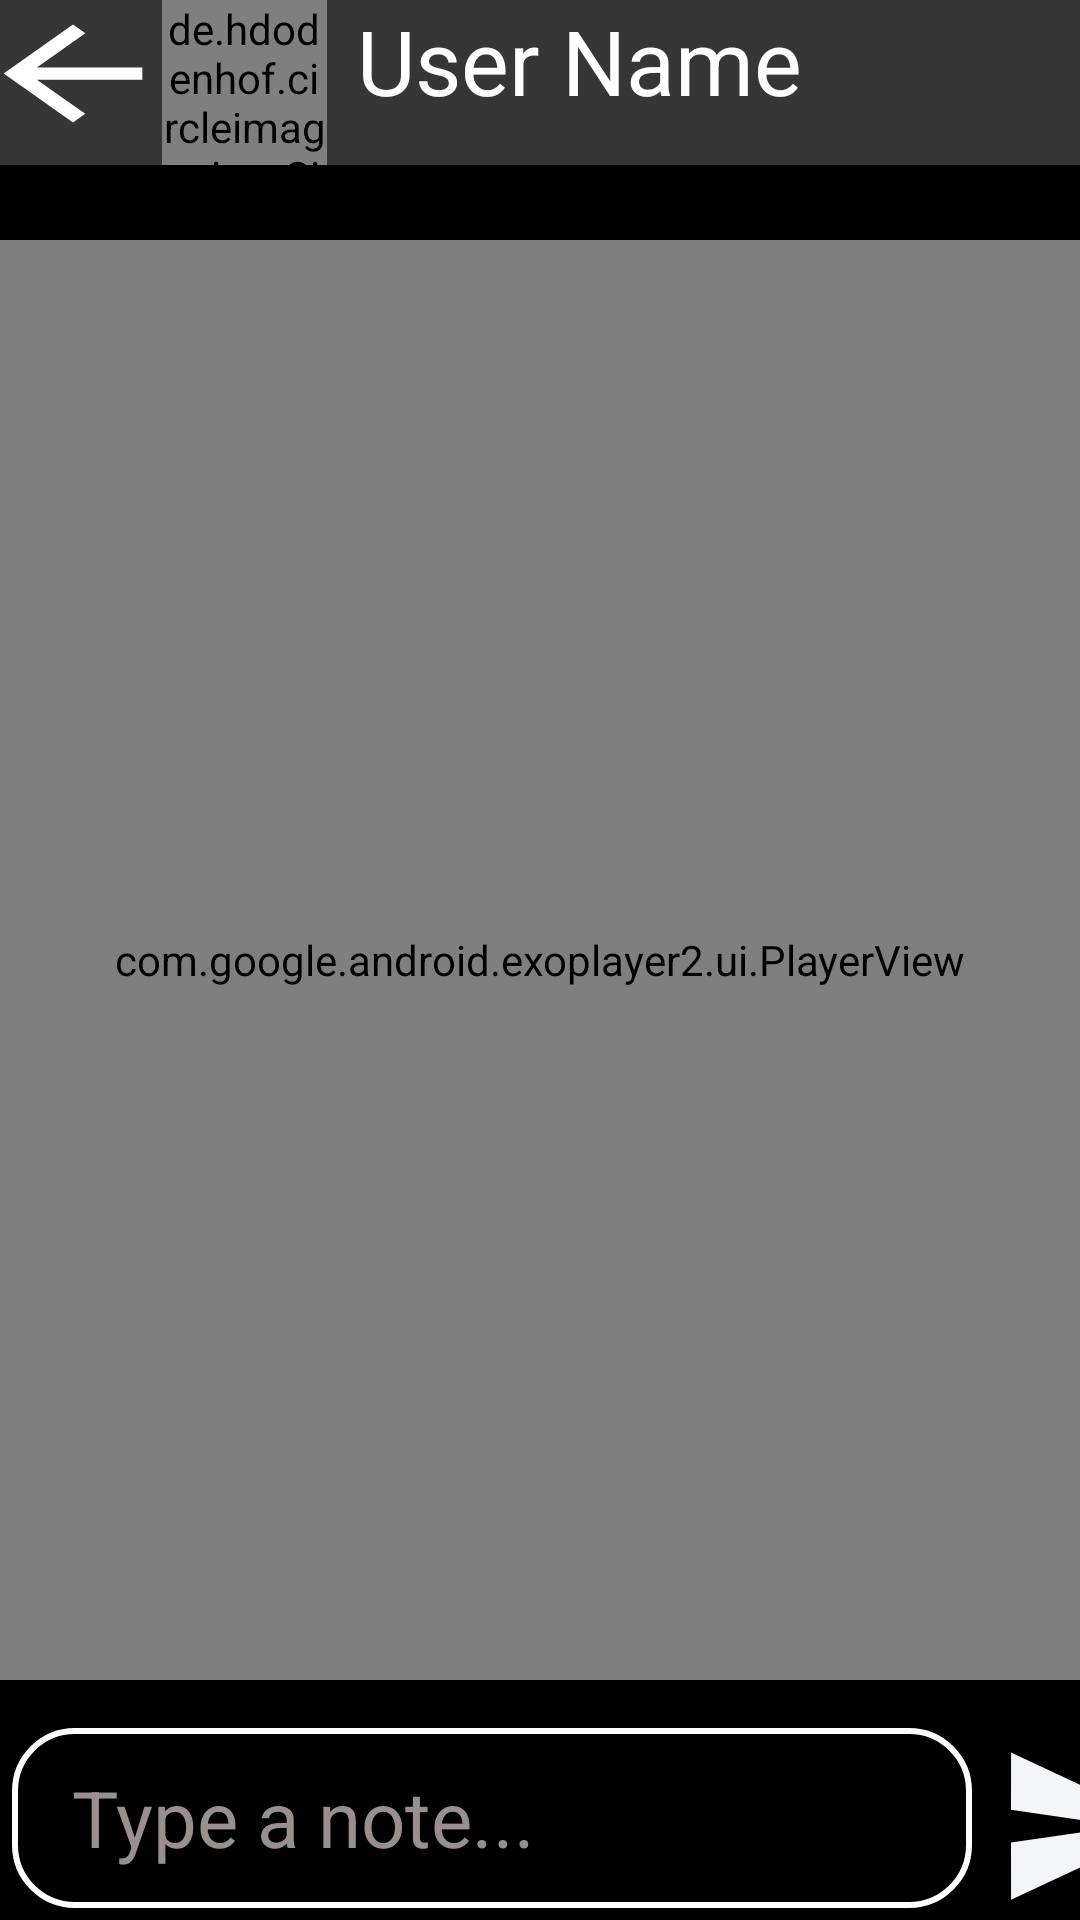

Icons on this 1080w x 1920h Android screen, each with its box as (x1, y1, x2, y2):
back: (4, 24, 143, 123)
